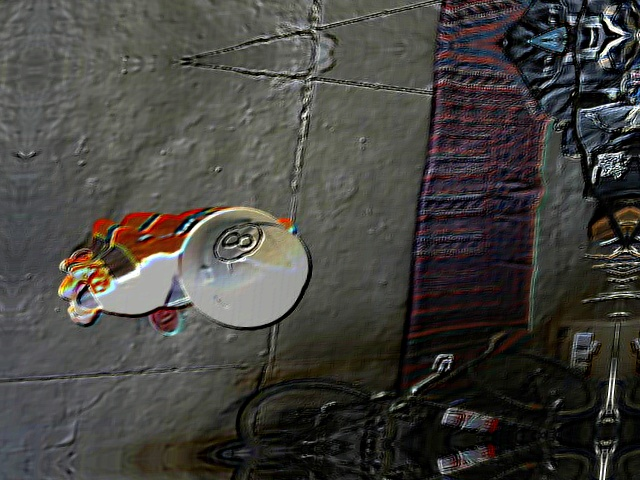eight: (212, 222, 262, 262)
